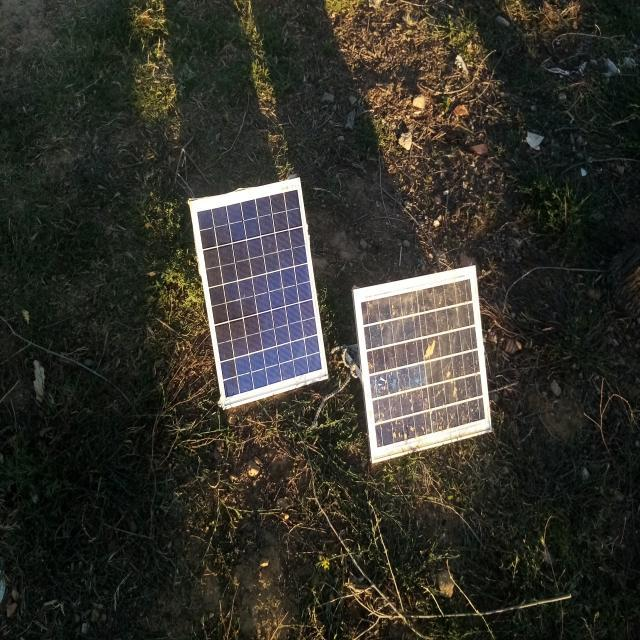faulty: (354, 266, 492, 462)
no faulty: (191, 179, 328, 407)
